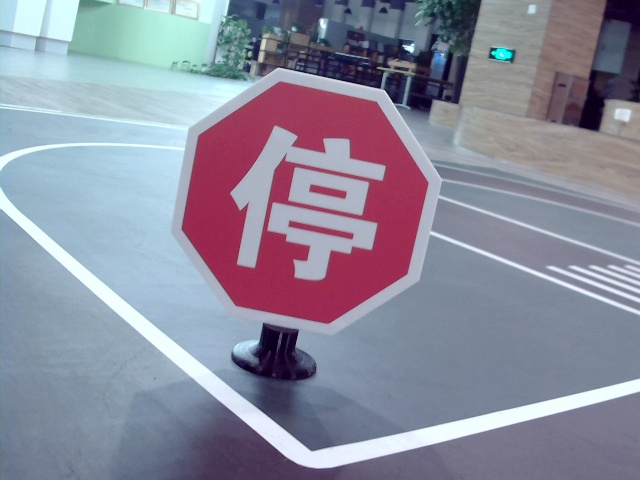stop: (238, 115, 385, 285)
